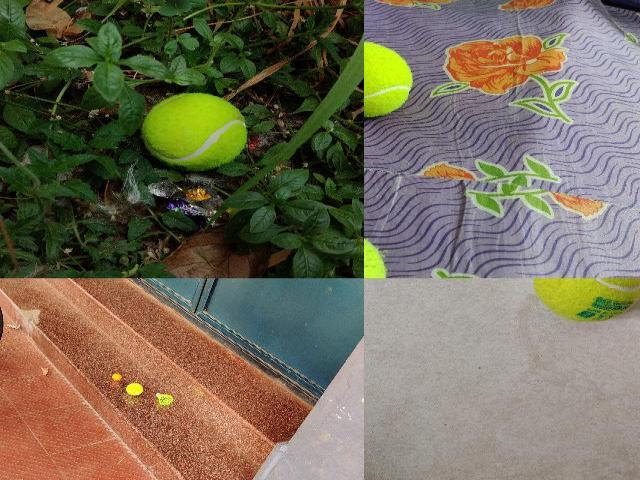tennis-ball: (142, 92, 246, 169), (533, 278, 639, 324), (364, 41, 415, 118), (365, 238, 387, 278), (126, 382, 142, 394)
